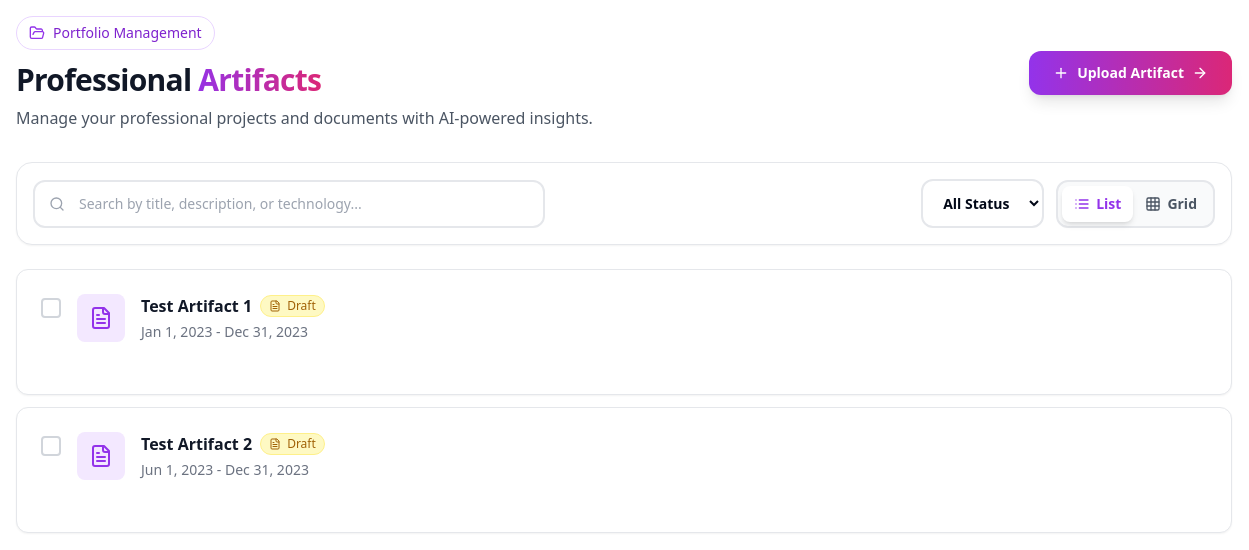
ArtifactsPage › filters artifacts by search query
Type "React" into the field with placeholder "Search by title, description, or technology..." at (289, 204), box [33,180,545,228]
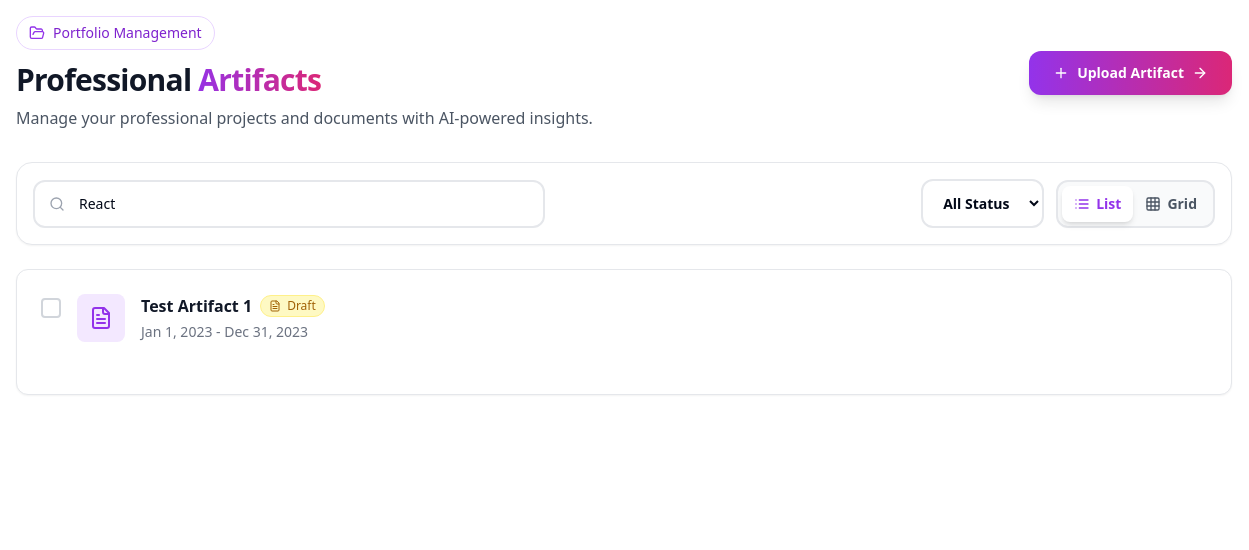
Expected: the heading "Test Artifact 1" is shown, [141,294,252,318]
Expected: the heading "Test Artifact 2" is gone
